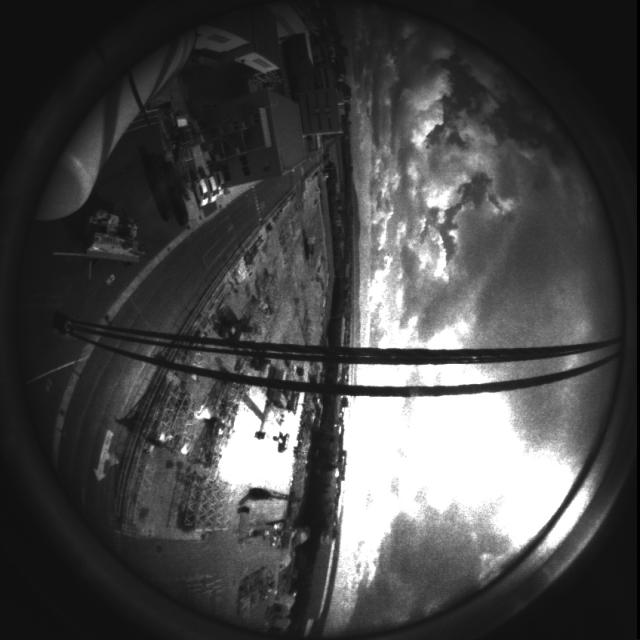rope: (17, 306, 637, 405)
sky: (318, 2, 617, 637)
